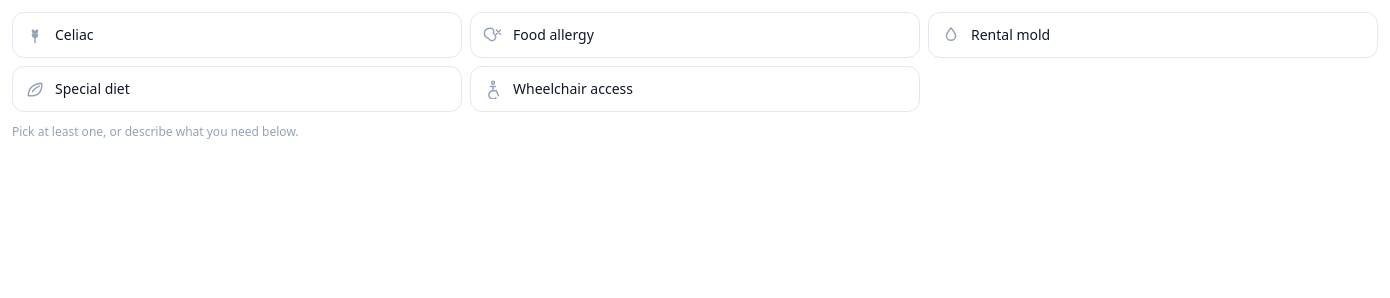
<RequirementChips /> › selecting Food allergy reveals the allergen multi-select
Expected: the text "Which allergens?" is not shown
Click the button "Food allergy".
click(553, 35)  # box top-left (470, 12), bottom-right (920, 58)
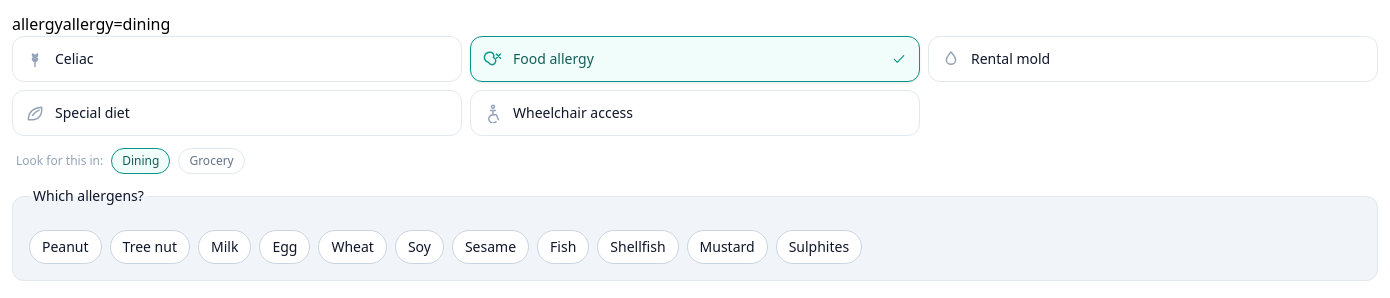
Result: the text "Which allergens?" is shown at top-left (29, 186), bottom-right (148, 206)
Result: the checkbox labelled "Peanut" is shown at top-left (29, 230), bottom-right (102, 264)
